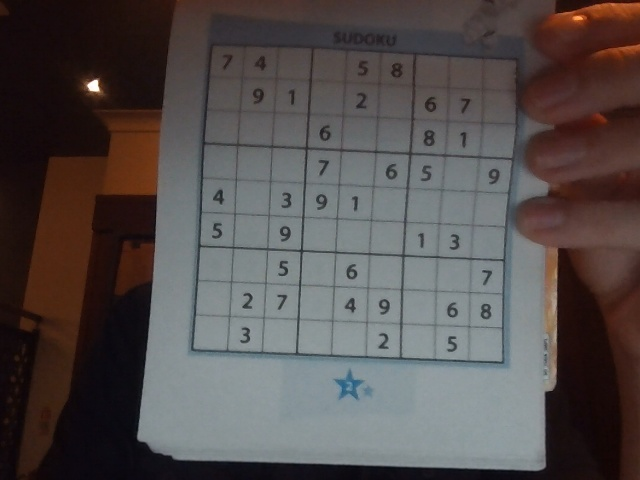eight: (421, 128, 436, 150), (390, 62, 403, 80), (479, 303, 492, 321)
five: (419, 164, 432, 184), (357, 58, 369, 79), (445, 334, 457, 354), (276, 259, 288, 278), (211, 222, 222, 239)
four: (253, 55, 268, 73), (345, 295, 357, 314), (213, 189, 224, 206)
grid: (186, 44, 520, 368)
nine: (278, 225, 292, 244), (378, 298, 390, 318), (253, 88, 266, 106), (487, 169, 500, 187), (316, 193, 327, 212)
one: (417, 232, 426, 250), (287, 89, 297, 105), (351, 196, 360, 213), (461, 131, 466, 148)
seven: (319, 159, 330, 179), (460, 97, 471, 116), (222, 54, 234, 71), (277, 293, 287, 313), (483, 269, 491, 287)
six: (445, 301, 461, 320), (317, 124, 332, 143), (384, 163, 399, 181), (424, 96, 437, 115), (345, 263, 358, 281)
three: (279, 191, 294, 211), (238, 326, 251, 344), (449, 233, 460, 251)
two: (376, 332, 391, 353), (355, 92, 367, 110)
zero: (208, 111, 234, 145), (242, 114, 269, 145), (381, 87, 409, 116), (418, 57, 447, 85), (336, 324, 364, 353), (235, 253, 264, 280), (202, 252, 229, 281), (313, 82, 339, 112), (346, 119, 372, 149), (201, 285, 227, 315), (303, 256, 331, 283), (382, 121, 407, 151), (303, 291, 329, 319), (280, 49, 305, 78), (267, 322, 294, 348), (375, 192, 402, 218), (211, 80, 236, 108), (316, 52, 341, 80), (208, 148, 233, 176), (238, 220, 266, 245), (374, 226, 398, 255), (372, 260, 398, 286), (409, 194, 437, 218), (404, 295, 432, 319), (278, 116, 301, 145), (307, 222, 332, 248), (346, 155, 370, 182), (487, 93, 510, 121), (303, 325, 328, 350), (240, 152, 266, 176), (340, 225, 364, 251), (276, 154, 299, 181), (447, 162, 472, 186), (472, 333, 497, 357), (455, 61, 478, 87), (486, 128, 509, 154), (487, 64, 511, 87), (442, 262, 465, 286), (241, 185, 264, 209), (407, 330, 433, 351), (407, 262, 432, 283), (198, 324, 224, 344), (478, 232, 498, 255), (481, 196, 498, 223), (447, 197, 466, 221)
